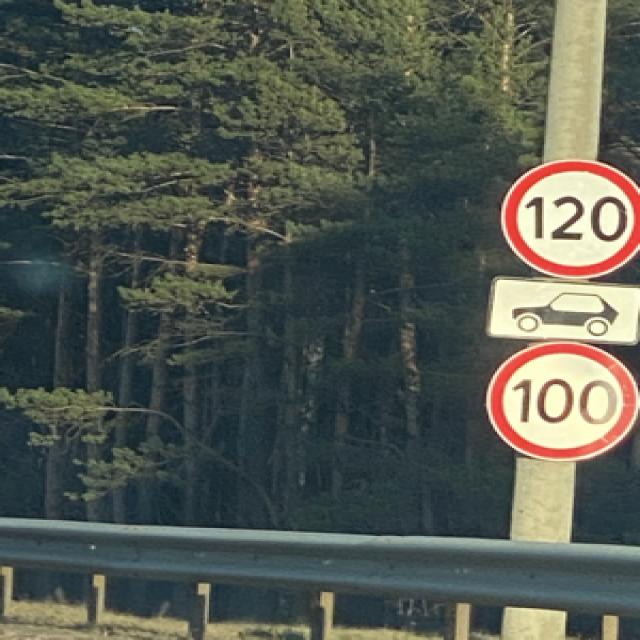speedlimit: (484, 341, 634, 459), (499, 157, 636, 272)
